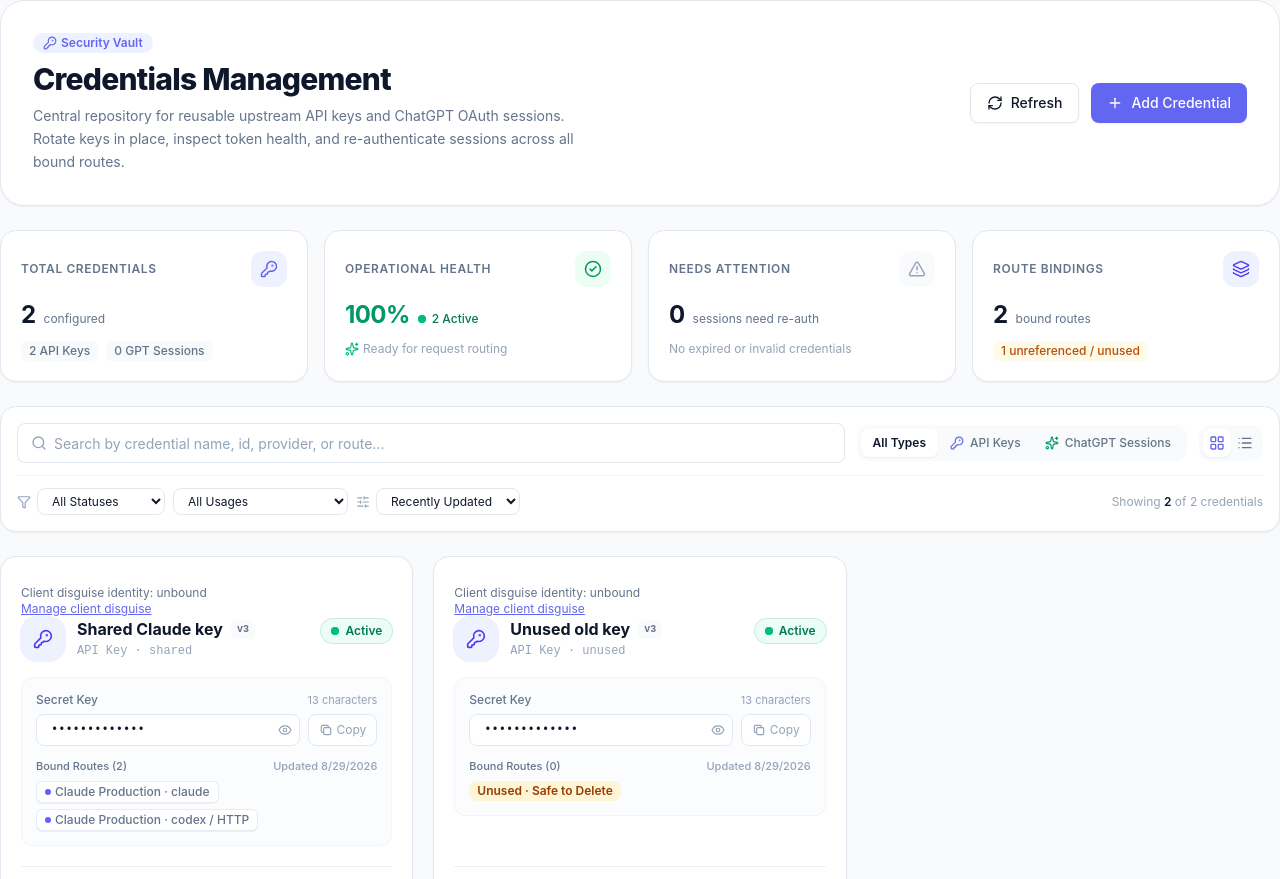
CredentialSessions › toggles password visibility with eye toggle button
The image size is (1280, 879).
What coordinates should you click on to do the following:
click the button named "Show secret" below "Shared Claude key"
I would click on:
 (284, 730)
Its box is [278,723,292,737].
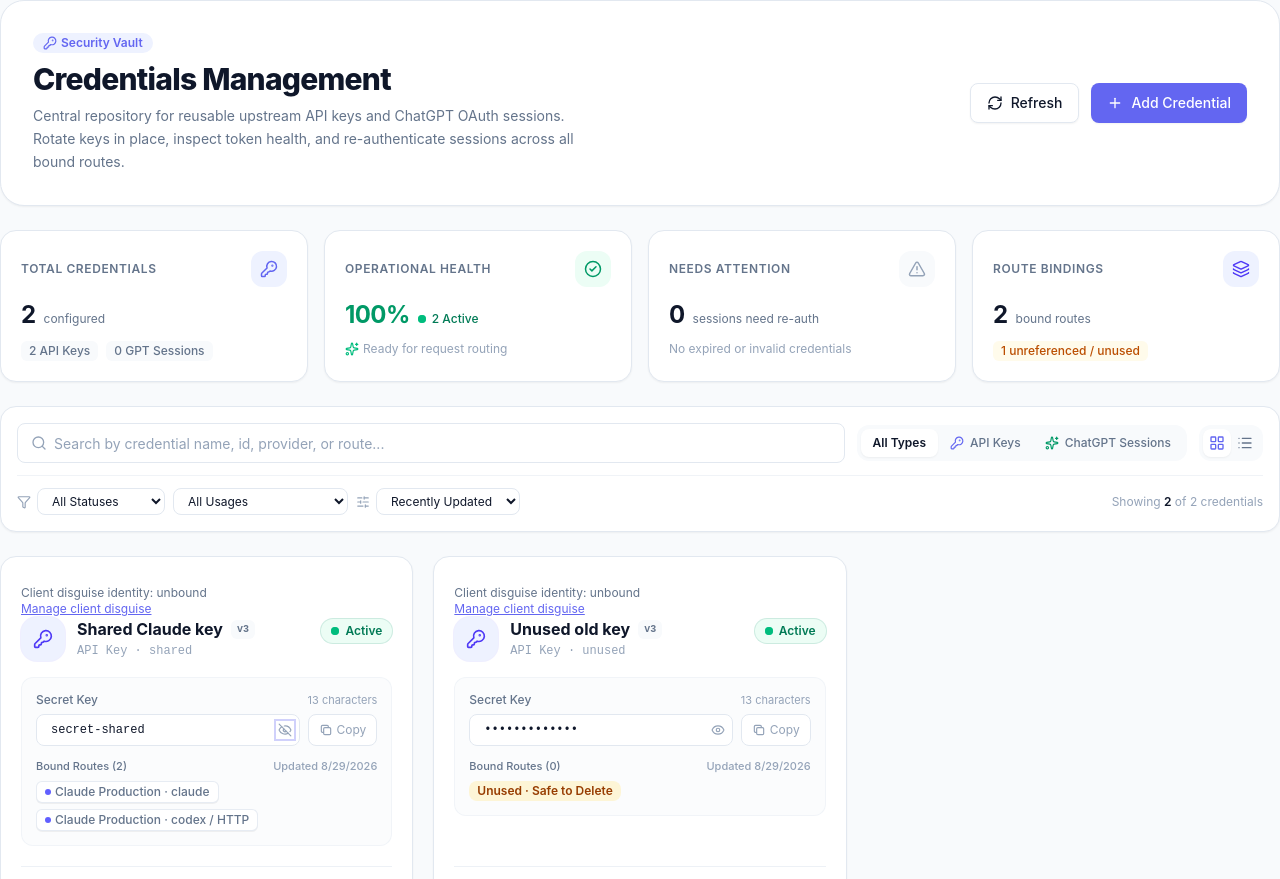
Expected: the field named "API key for Shared Claude key" shows its text, [36,714,300,746]
What coordinates should you click on to do the following:
click the button named "Hide secret"
I would click on:
 (284, 730)
Its box is [278,723,292,737].
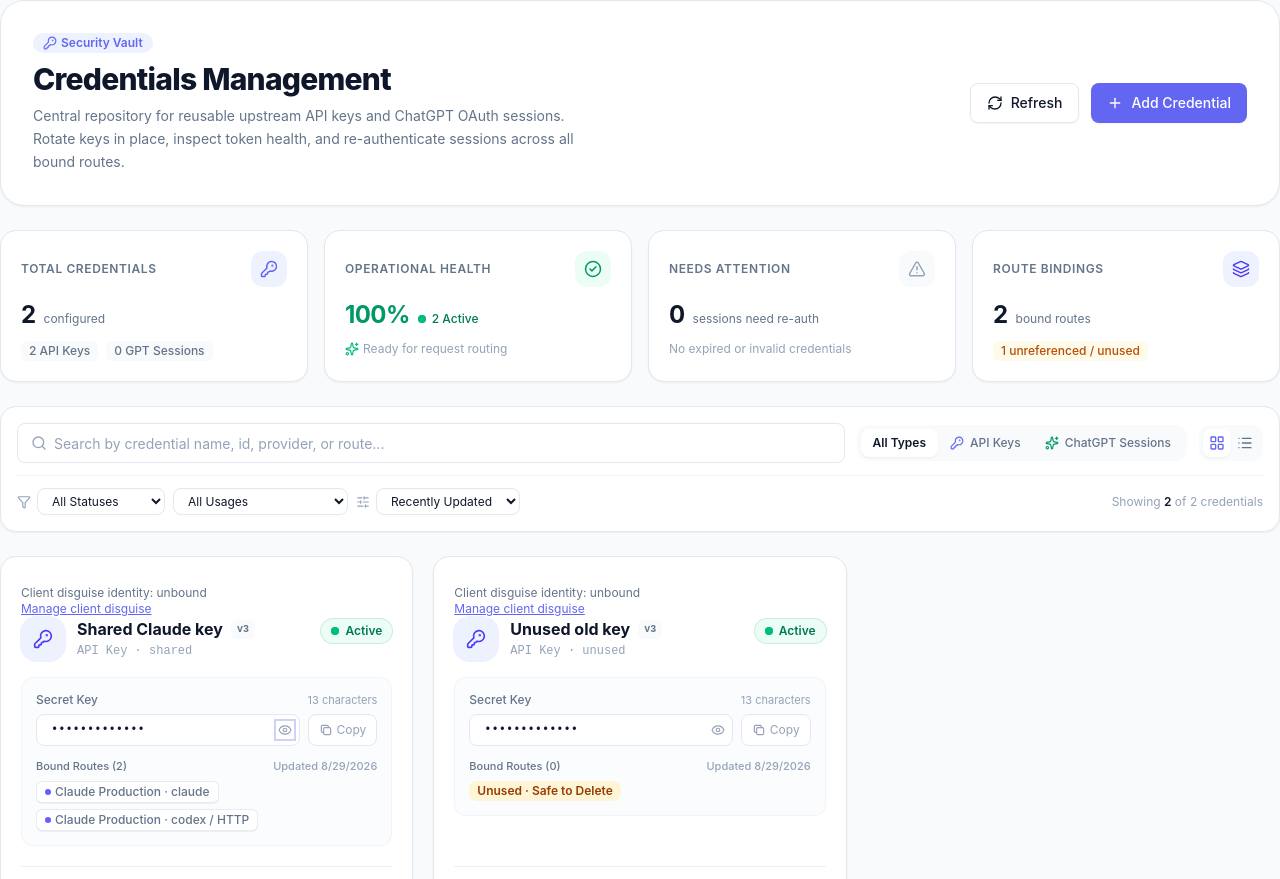
Expected: the password field named "API key for Shared Claude key" hides its text, [36,714,300,746]
